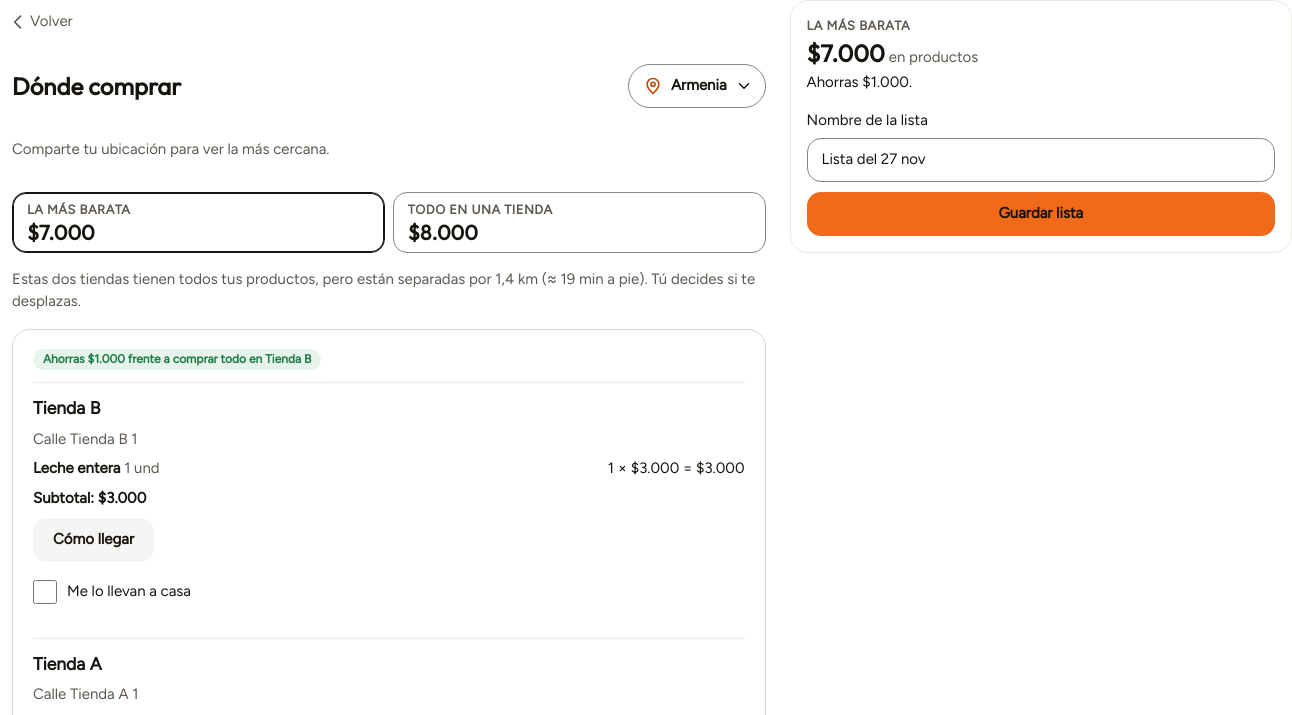
Test: pantalla «Dónde comprar» › «Todo en una tienda» conserva la tarjeta naranja de siempre; la más barata muestra el reparto
Expected: the heading "Dónde comprar" is shown, [12,72,181,100]
Expected: the radio button labelled "La más barata" is shown, [12,192,385,253]
Click the radio button labelled "Todo en una tienda" at (480, 209), box [393,192,766,253]
(page scrolled)
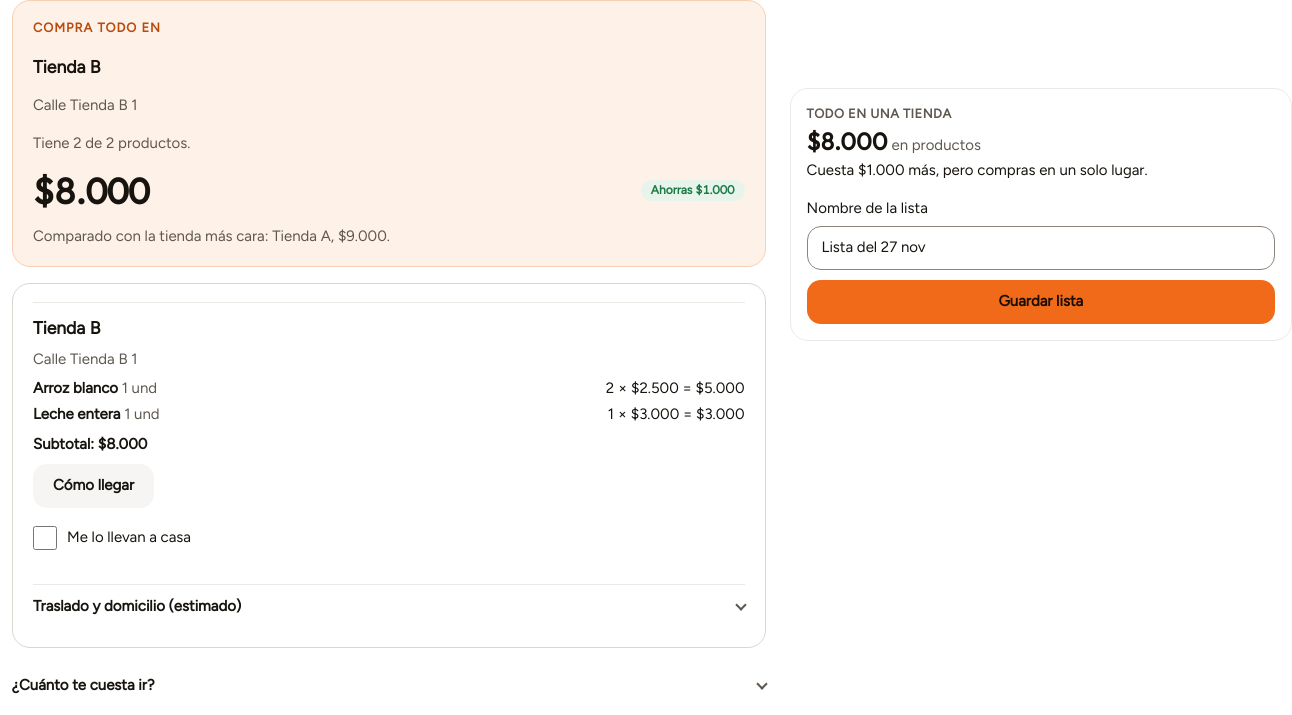
Expected: the link with aria-label "Cómo llegar a Tienda B" is shown, [33,464,154,508]
Now the heading "Compra todo en" is shown, box [33,20,161,35]
Now the text "Tiene 2 de 2 productos." is shown, box [33,134,190,152]
